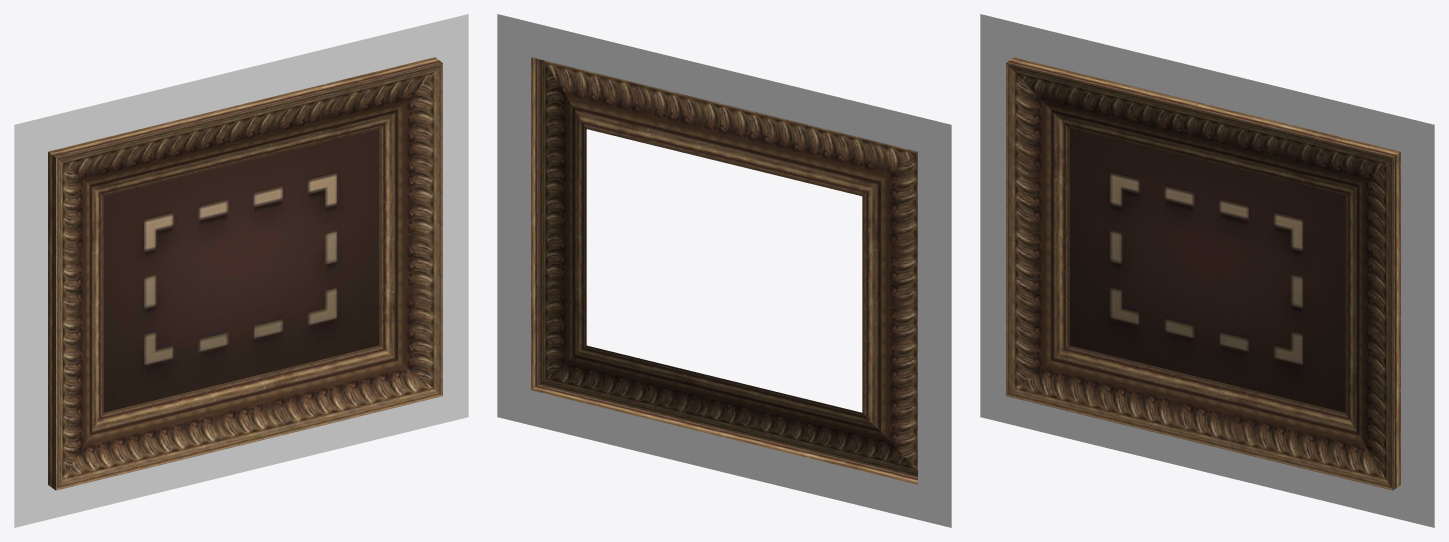
Rendered from Frame_05_Small.dae.
The picture shows the model from 3 angles, left to right: view 1: azimuth 30°, elevation 25°; view 2: azimuth 150°, elevation 25°; view 3: azimuth 330°, elevation 25°; orthographic projection.
Parts seen in each view (by area): view 1: Frame_05_Small (×3); view 2: Frame_05_Small (×2); view 3: Frame_05_Small (×3).
Part boxes in pixels (bbox=[...]): Frame_05_Small (×3): bbox=[14, 14, 468, 527]; Frame_05_Small (×2): bbox=[497, 14, 951, 527]; Frame_05_Small (×3): bbox=[980, 14, 1434, 527].
Bounding box in the file's own units: 272 × 231 × 8.27.
3 materials, 3 textured.
